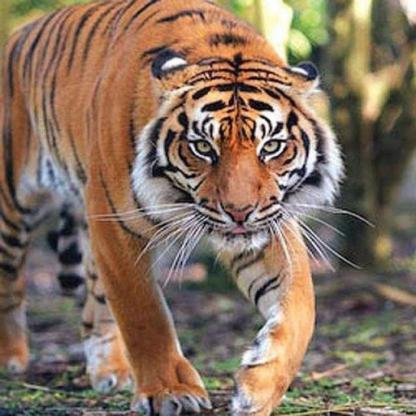Tiger: (0, 0, 370, 415)
